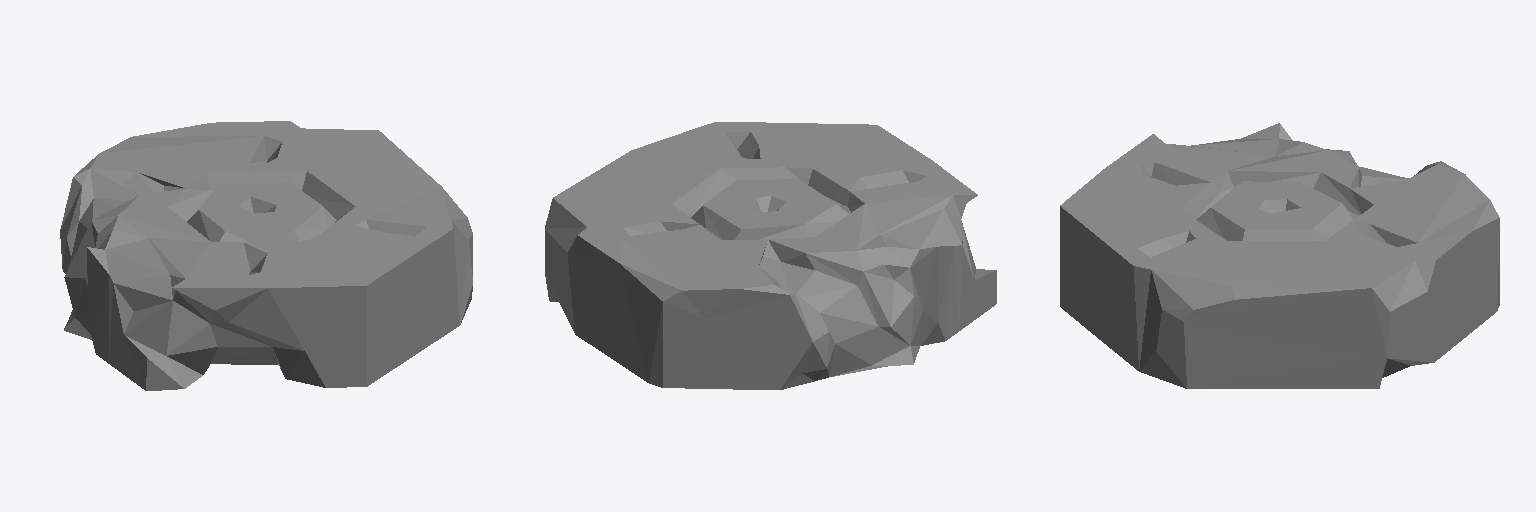
File: SM_Env_Rune_Rounded_04.obj
3 views of the same model, side by side, from view 1: azimuth 30°, elevation 25°; view 2: azimuth 150°, elevation 25°; view 3: azimuth 270°, elevation 25° (orthographic).
Parts seen in each view (by area): view 1: SM_Env_Rune_Rounded_04; view 2: SM_Env_Rune_Rounded_04; view 3: SM_Env_Rune_Rounded_04.
Part boxes in pixels (left/top/right/bottom): SM_Env_Rune_Rounded_04: left=60, top=121, right=472, bottom=390; SM_Env_Rune_Rounded_04: left=545, top=122, right=996, bottom=389; SM_Env_Rune_Rounded_04: left=1060, top=123, right=1499, bottom=388.
Size of the model in its own units: 0.5624 by 0.1605 by 0.633.